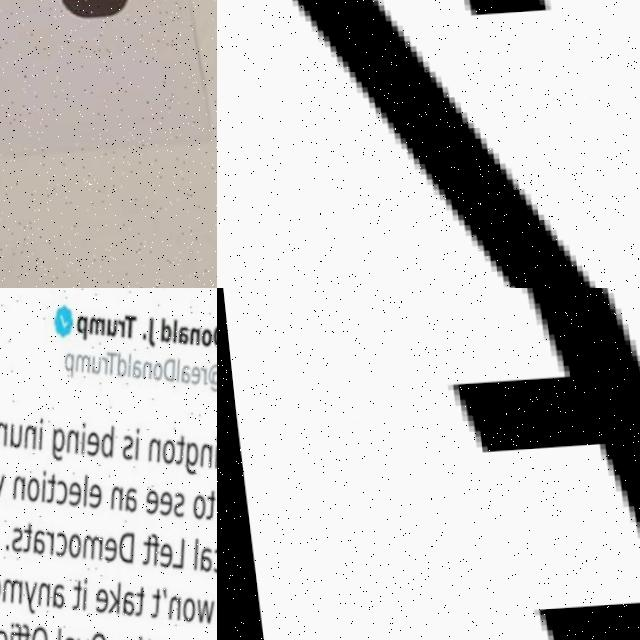7: (222, 0, 640, 288)
8: (35, 0, 139, 31)
B: (93, 428, 115, 466)
E: (446, 288, 640, 578), (80, 433, 99, 461)
G: (42, 428, 62, 467), (176, 447, 196, 482)
H: (212, 439, 217, 480)
I: (28, 421, 46, 459), (70, 425, 86, 460), (126, 434, 140, 469), (205, 440, 217, 477)
N: (137, 440, 159, 471), (57, 430, 78, 459), (192, 445, 210, 475)
O: (155, 442, 169, 470)
S: (114, 437, 130, 467)
T: (165, 439, 184, 473)
